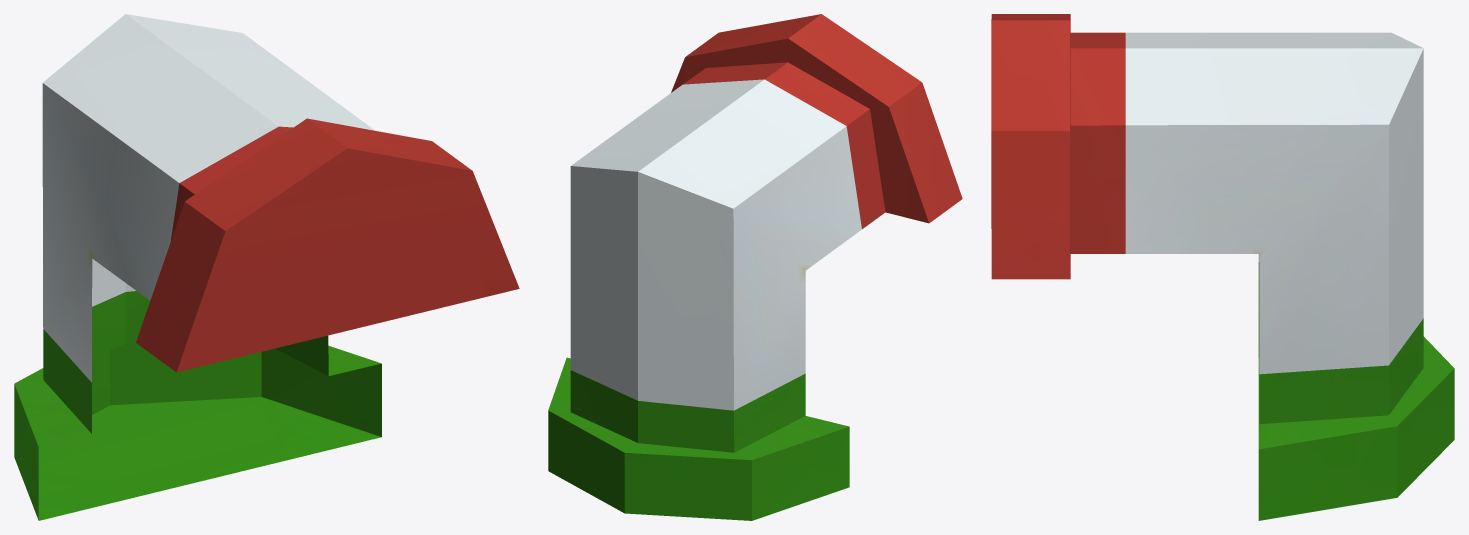
The model's file is Asset_Conexion_Pared_L_v2.fbx.
The picture shows the model from 3 angles, left to right: view 1: azimuth 30°, elevation 25°; view 2: azimuth 150°, elevation 25°; view 3: azimuth 270°, elevation 25°; orthographic projection. The views are drawn at different scales.
Parts seen in each view (by area): view 1: Asset_conexion_Pared_L_v2; view 2: Asset_conexion_Pared_L_v2; view 3: Asset_conexion_Pared_L_v2.
Part boxes in pixels (left/top/right/bottom): Asset_conexion_Pared_L_v2: left=14, top=14, right=519, bottom=520; Asset_conexion_Pared_L_v2: left=548, top=14, right=962, bottom=520; Asset_conexion_Pared_L_v2: left=991, top=14, right=1454, bottom=520.
Size of the model in its own units: 0.1315 by 0.1579 by 0.158.
